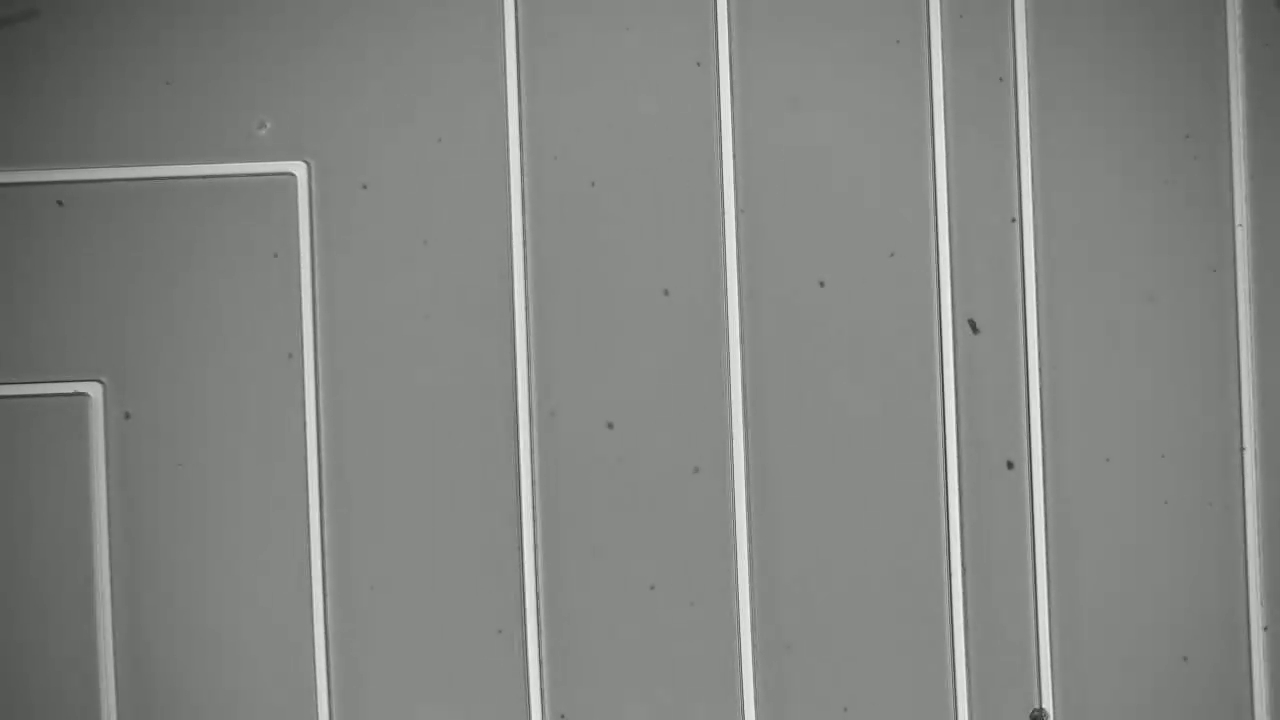stains_enbedded: (1025, 692, 1068, 720)
